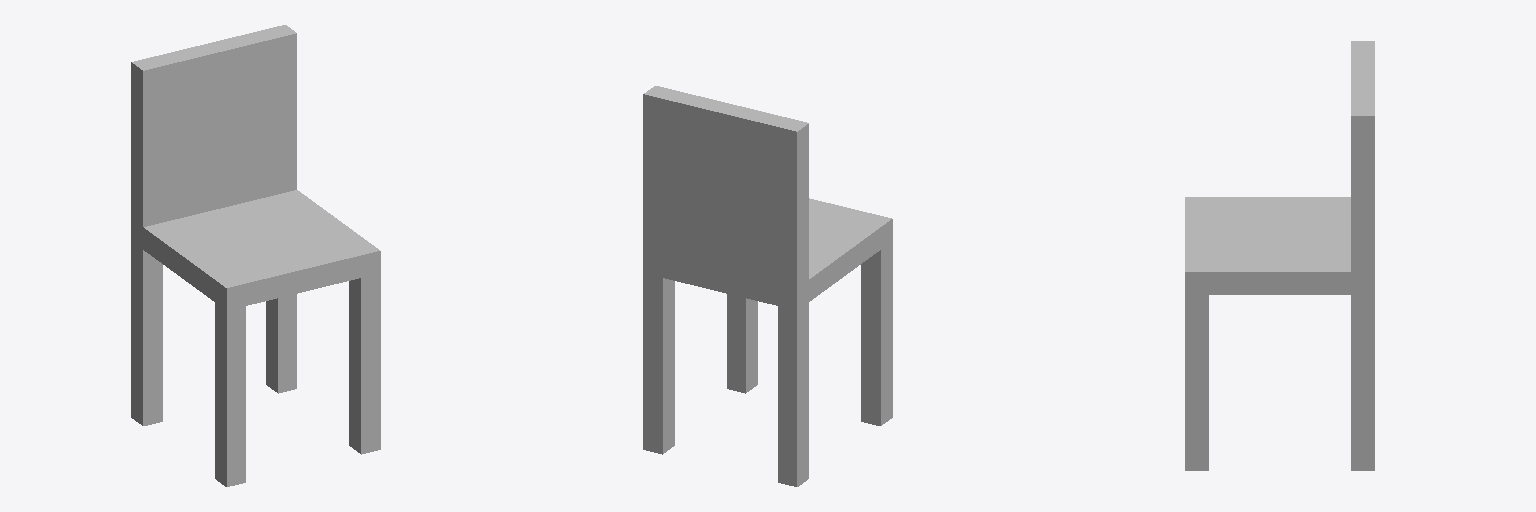
File: restaurant-chair2.obj
3 views of the same model, side by side, from view 1: azimuth 30°, elevation 25°; view 2: azimuth 150°, elevation 25°; view 3: azimuth 270°, elevation 25° (orthographic).
Visible parts, largest first — view 1: pCube1; view 2: pCube1; view 3: pCube1.
Boxes of the visible parts, <box> form: pCube1: <box>131,25,380,486</box>; pCube1: <box>643,86,892,486</box>; pCube1: <box>1185,41,1374,470</box>.
Bounding box in the file's own units: 4.97 × 10.96 × 5.31.